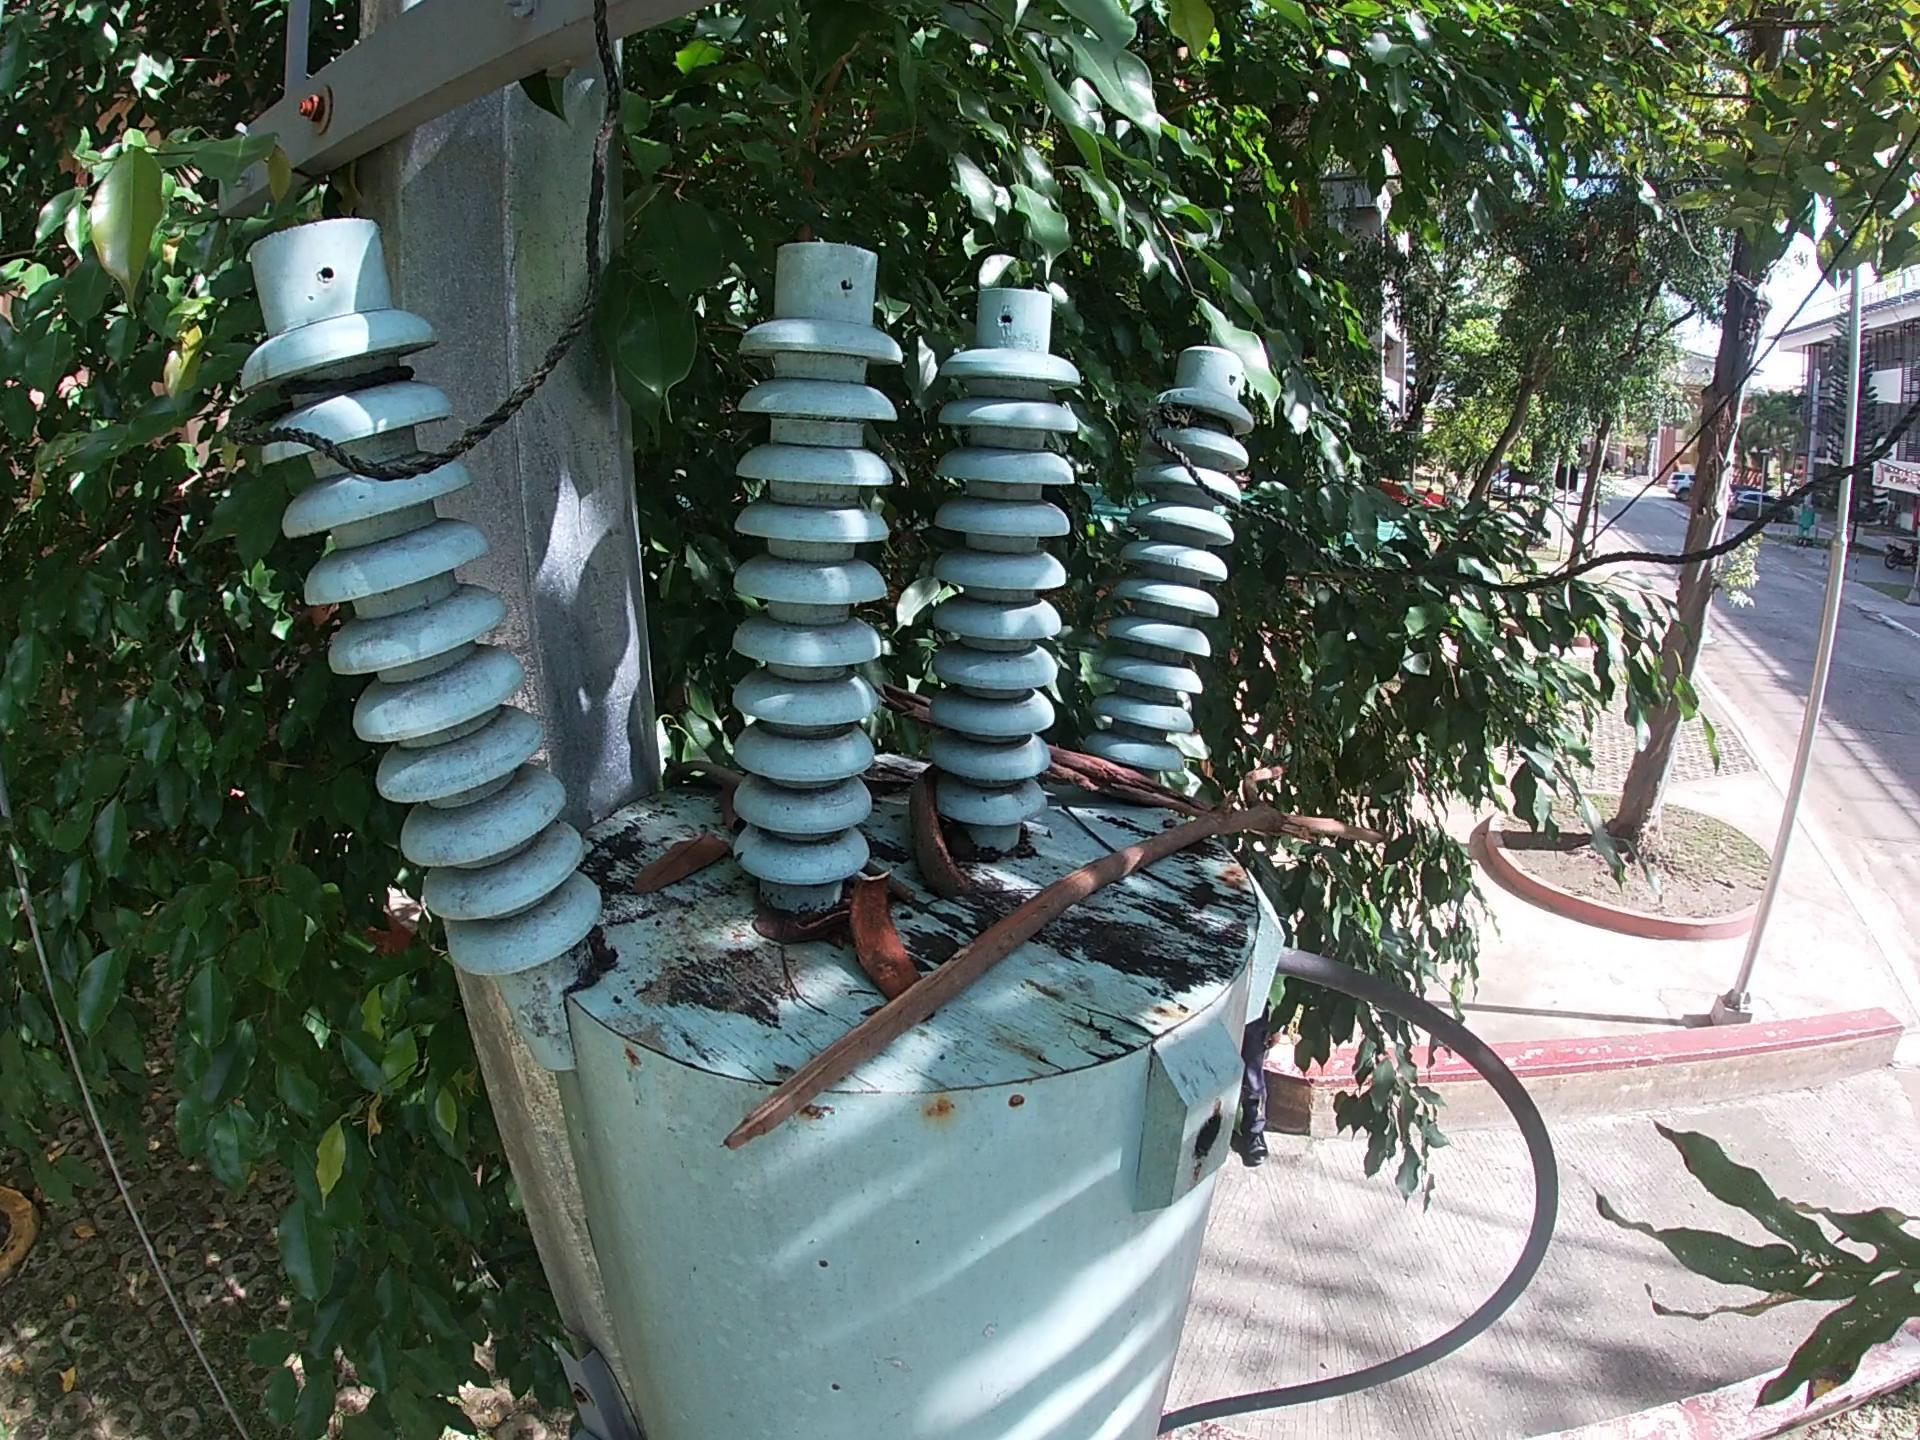leaf: (626, 827, 735, 902), (745, 902, 835, 956), (717, 784, 757, 836)
mahogany fruit: (845, 868, 928, 1004), (906, 762, 975, 903)
tree branch: (714, 762, 1389, 1157), (881, 678, 1222, 821), (646, 750, 750, 793), (869, 861, 925, 902)
